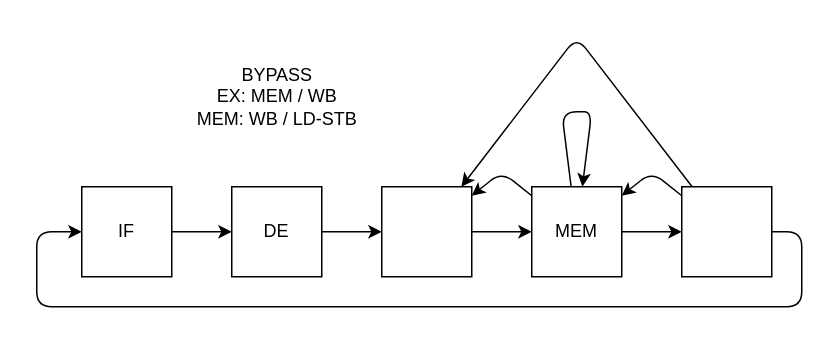
Some shapes in this 840 by 345 pixel diagram are drawn without their labels. The box of each missing label's shape, as (x1, y1, x2, y2) in pixels:
EX: (380, 185, 472, 277)
WB: (680, 185, 772, 277)
